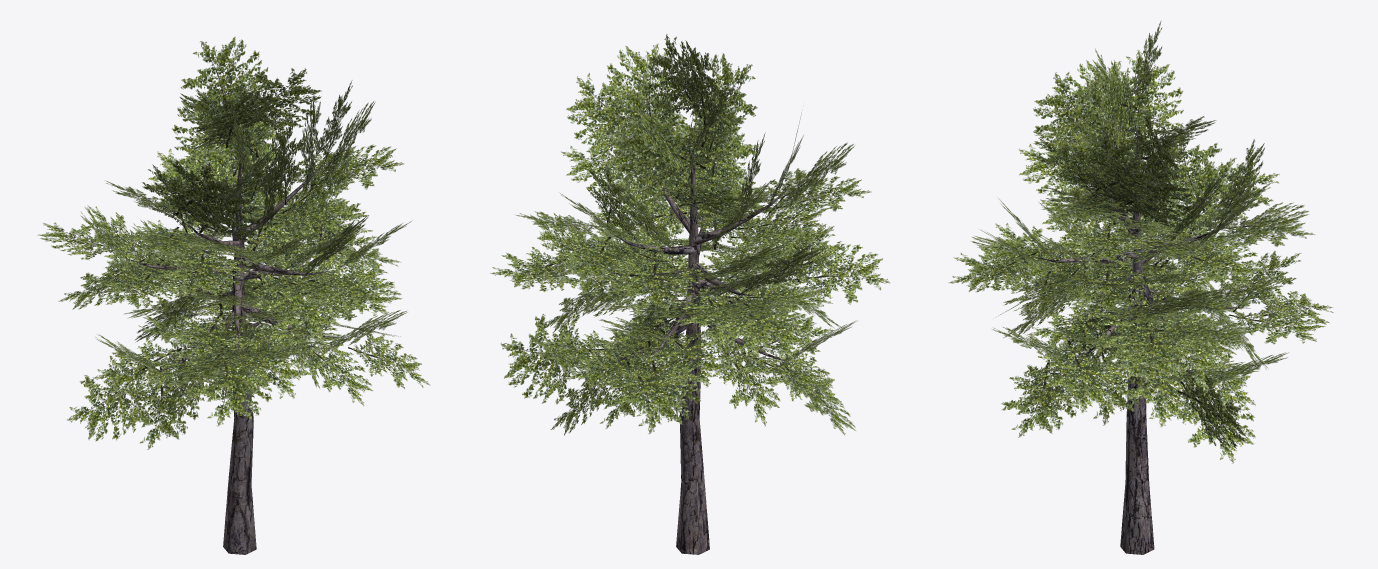
The model's file is low_poly_tree.glb.
3 renders of one model, left to right at view 1: azimuth 30°, elevation 25°; view 2: azimuth 150°, elevation 25°; view 3: azimuth 270°, elevation 25°, orthographic.
Visible parts, largest first — view 1: leaves, tree; view 2: leaves, tree; view 3: leaves, tree.
Boxes of the visible parts, x1,y1,x2,y2 form: leaves: (37,36,430,449); tree: (128,127,343,554); leaves: (490,34,889,435); tree: (600,116,792,554); leaves: (948,20,1333,463); tree: (1033,118,1250,554).
Size of the model in its own units: 1752 by 2471 by 1796.
Materials: 2 (2 with a texture image).
